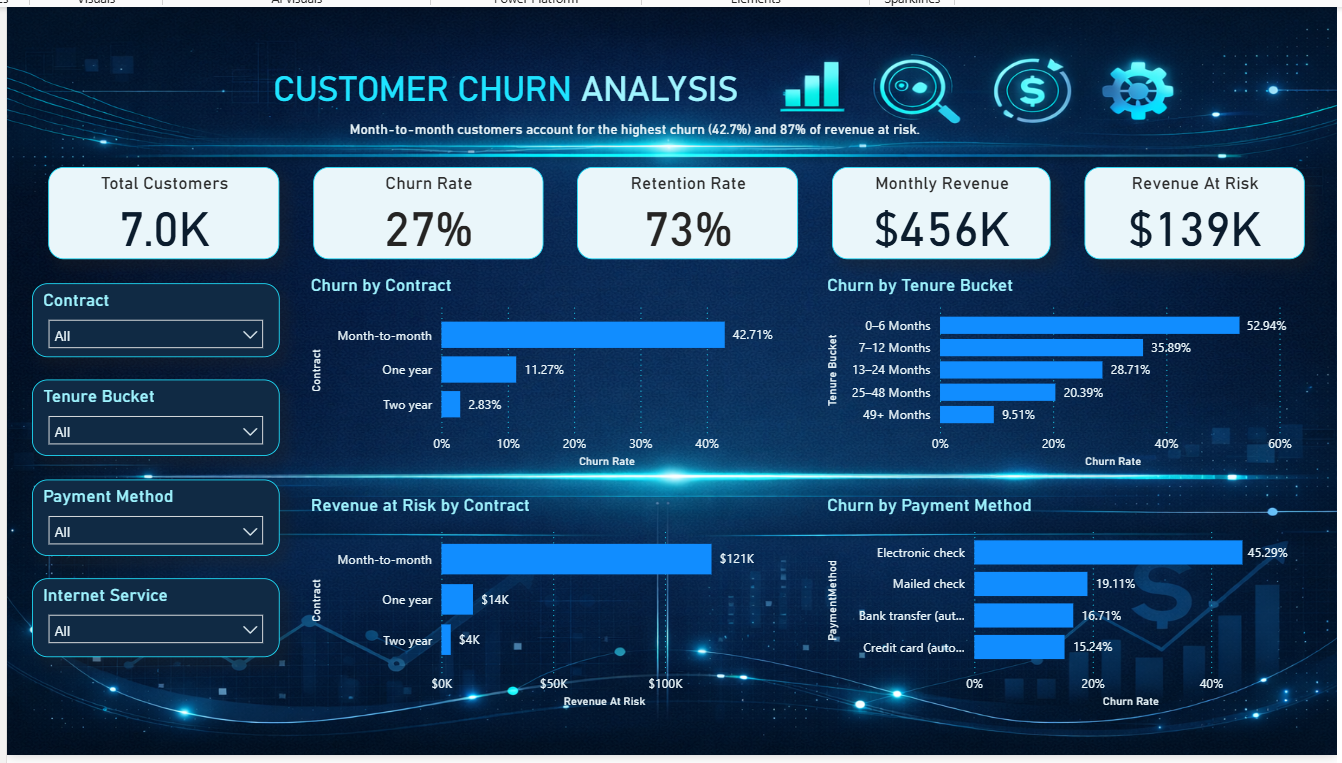

What the dashboard file says about the page in this screenshot:
{"tool":"powerbi","page":{"name":"Churn_Dashboard","canvas":[1280,720],"ordinal":0},"visuals":[{"type":"card","title":"Revenue At Risk","fields":{"Values":["churn_clean.Revenue At Risk"]},"box":[1037.2,154,211.8,89],"z":0},{"type":"card","title":"Churn Rate","fields":{"Values":["churn_clean.Churn Rate"]},"box":[294.8,154,221.4,89],"z":1000},{"type":"card","title":"Total Customers","fields":{"Values":["churn_clean.Total Customers"]},"box":[39.7,154,222.6,89],"z":2000},{"type":"card","title":"Retention Rate","fields":{"Values":["churn_clean.Retention Rate"]},"box":[548.7,154,213,89],"z":3000},{"type":"card","title":"Monthly Revenue","fields":{"Values":["churn_clean.Monthly Revenue"]},"box":[794.1,154,210.6,89],"z":4000},{"type":"textbox","box":[237,54.1,503,49.3],"z":5000},{"type":"clusteredBarChart","title":"Churn by Contract","fields":{"Y":["churn_clean.Churn Rate"],"Category":["churn_clean.Contract"]},"box":[287.6,257.5,466.9,191.3],"z":6000},{"type":"barChart","title":"Churn by Tenure Bucket","fields":{"Category":["churn_clean.Tenure Bucket"],"Y":["churn_clean.Churn Rate"]},"box":[784.5,257.5,464.4,191.3],"z":7000},{"type":"barChart","title":"Churn by Payment Method","fields":{"Y":["churn_clean.Churn Rate"],"Category":["churn_clean.PaymentMethod"]},"box":[784.5,469.3,465.7,210.6],"z":8000},{"type":"barChart","title":"Revenue at Risk by Contract","fields":{"Y":["churn_clean.Revenue At Risk"],"Category":["churn_clean.Contract"]},"box":[287.6,469.3,466.9,210.6],"z":9000},{"type":"slicer","title":"Contract","fields":{"Values":["churn_clean.Contract"]},"box":[24.1,265.3,238.2,71],"z":10000},{"type":"slicer","title":"Tenure Bucket","fields":{"Values":["churn_clean.Tenure Bucket"]},"box":[24.1,358.6,238.2,73.4],"z":11000},{"type":"slicer","title":"Payment Method","fields":{"Values":["churn_clean.PaymentMethod"]},"box":[24.1,454.2,238.2,73.4],"z":12000},{"type":"slicer","title":"Internet Service","fields":{"Values":["churn_clean.InternetService"]},"box":[24.1,549.9,238.2,75.8],"z":13000},{"type":"textbox","box":[310.4,103.5,642.5,30.1],"z":13001}]}

Visuals, with their boxes on the page's 1280x720 design canvas (x1, y1, x2, y2). These are canvas units, not pixel positions in the 1342x763 screenshot, which may show the page scaled, cropped or inside an application window:
"Revenue At Risk" card: rect(1037, 154, 1249, 243)
"Churn Rate" card: rect(295, 154, 516, 243)
"Total Customers" card: rect(40, 154, 262, 243)
"Retention Rate" card: rect(549, 154, 762, 243)
"Monthly Revenue" card: rect(794, 154, 1005, 243)
textbox: rect(237, 54, 740, 103)
"Churn by Contract" clusteredBarChart: rect(288, 258, 754, 449)
"Churn by Tenure Bucket" barChart: rect(784, 258, 1249, 449)
"Churn by Payment Method" barChart: rect(784, 469, 1250, 680)
"Revenue at Risk by Contract" barChart: rect(288, 469, 754, 680)
"Contract" slicer: rect(24, 265, 262, 336)
"Tenure Bucket" slicer: rect(24, 359, 262, 432)
"Payment Method" slicer: rect(24, 454, 262, 528)
"Internet Service" slicer: rect(24, 550, 262, 626)
textbox: rect(310, 104, 953, 134)
